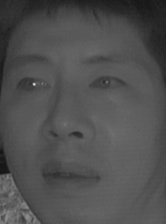eye: (88, 71, 128, 96), (12, 74, 51, 97)
mouth: (38, 153, 101, 196)
